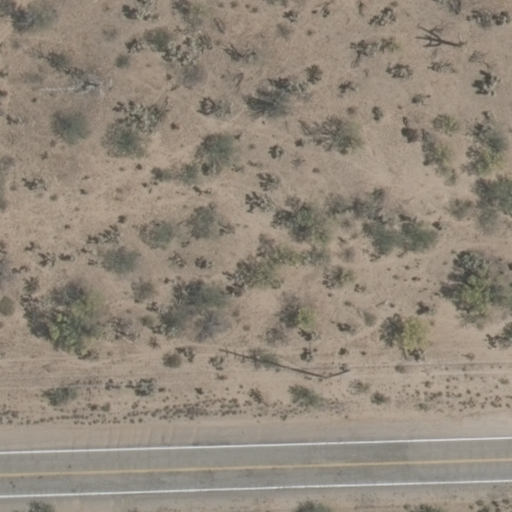DT: (323, 365, 354, 382)
